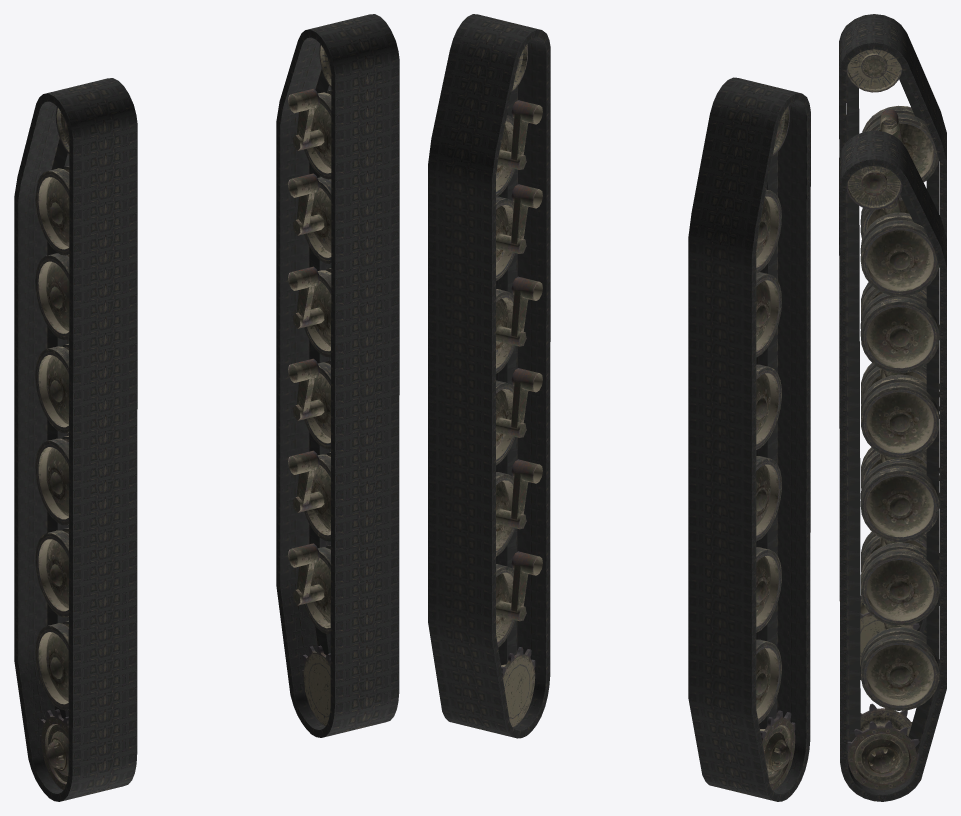
Rendered from Chassis.glb.
The picture shows the model from 3 angles, left to right: view 1: azimuth 30°, elevation 25°; view 2: azimuth 150°, elevation 25°; view 3: azimuth 270°, elevation 25°; orthographic projection. The views are drawn at different scales.
Visible parts, largest first — view 1: set_1_group_0, set_0_group_0, set_3_group_0, set_2_group_0; view 2: set_1_group_0, set_0_group_0, set_3_group_0, set_2_group_0; view 3: set_3_group_0, set_0_group_0, set_2_group_0, set_1_group_0.
Part boxes in pixels (<box>): set_1_group_0: <box>14,78,137,801</box>; set_0_group_0: <box>276,14,399,737</box>; set_3_group_0: <box>288,44,331,725</box>; set_2_group_0: <box>35,107,69,789</box>; set_1_group_0: <box>688,77,810,801</box>; set_0_group_0: <box>428,14,550,738</box>; set_3_group_0: <box>496,44,542,726</box>; set_2_group_0: <box>756,106,795,790</box>; set_3_group_0: <box>846,166,939,790</box>; set_0_group_0: <box>839,130,946,801</box>; set_2_group_0: <box>846,49,939,666</box>; set_1_group_0: <box>839,14,946,679</box>.
Size of the model in its own units: 3.32 by 6.81 by 1.04.
Materials: 4 (4 with a texture image).
